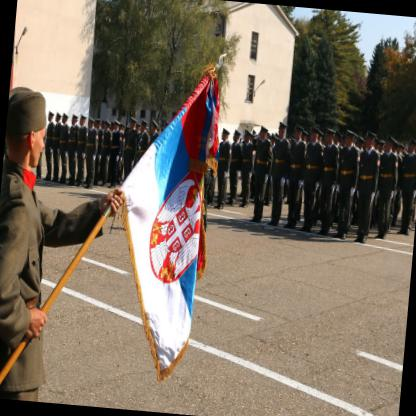rs: (103, 66, 225, 388)
